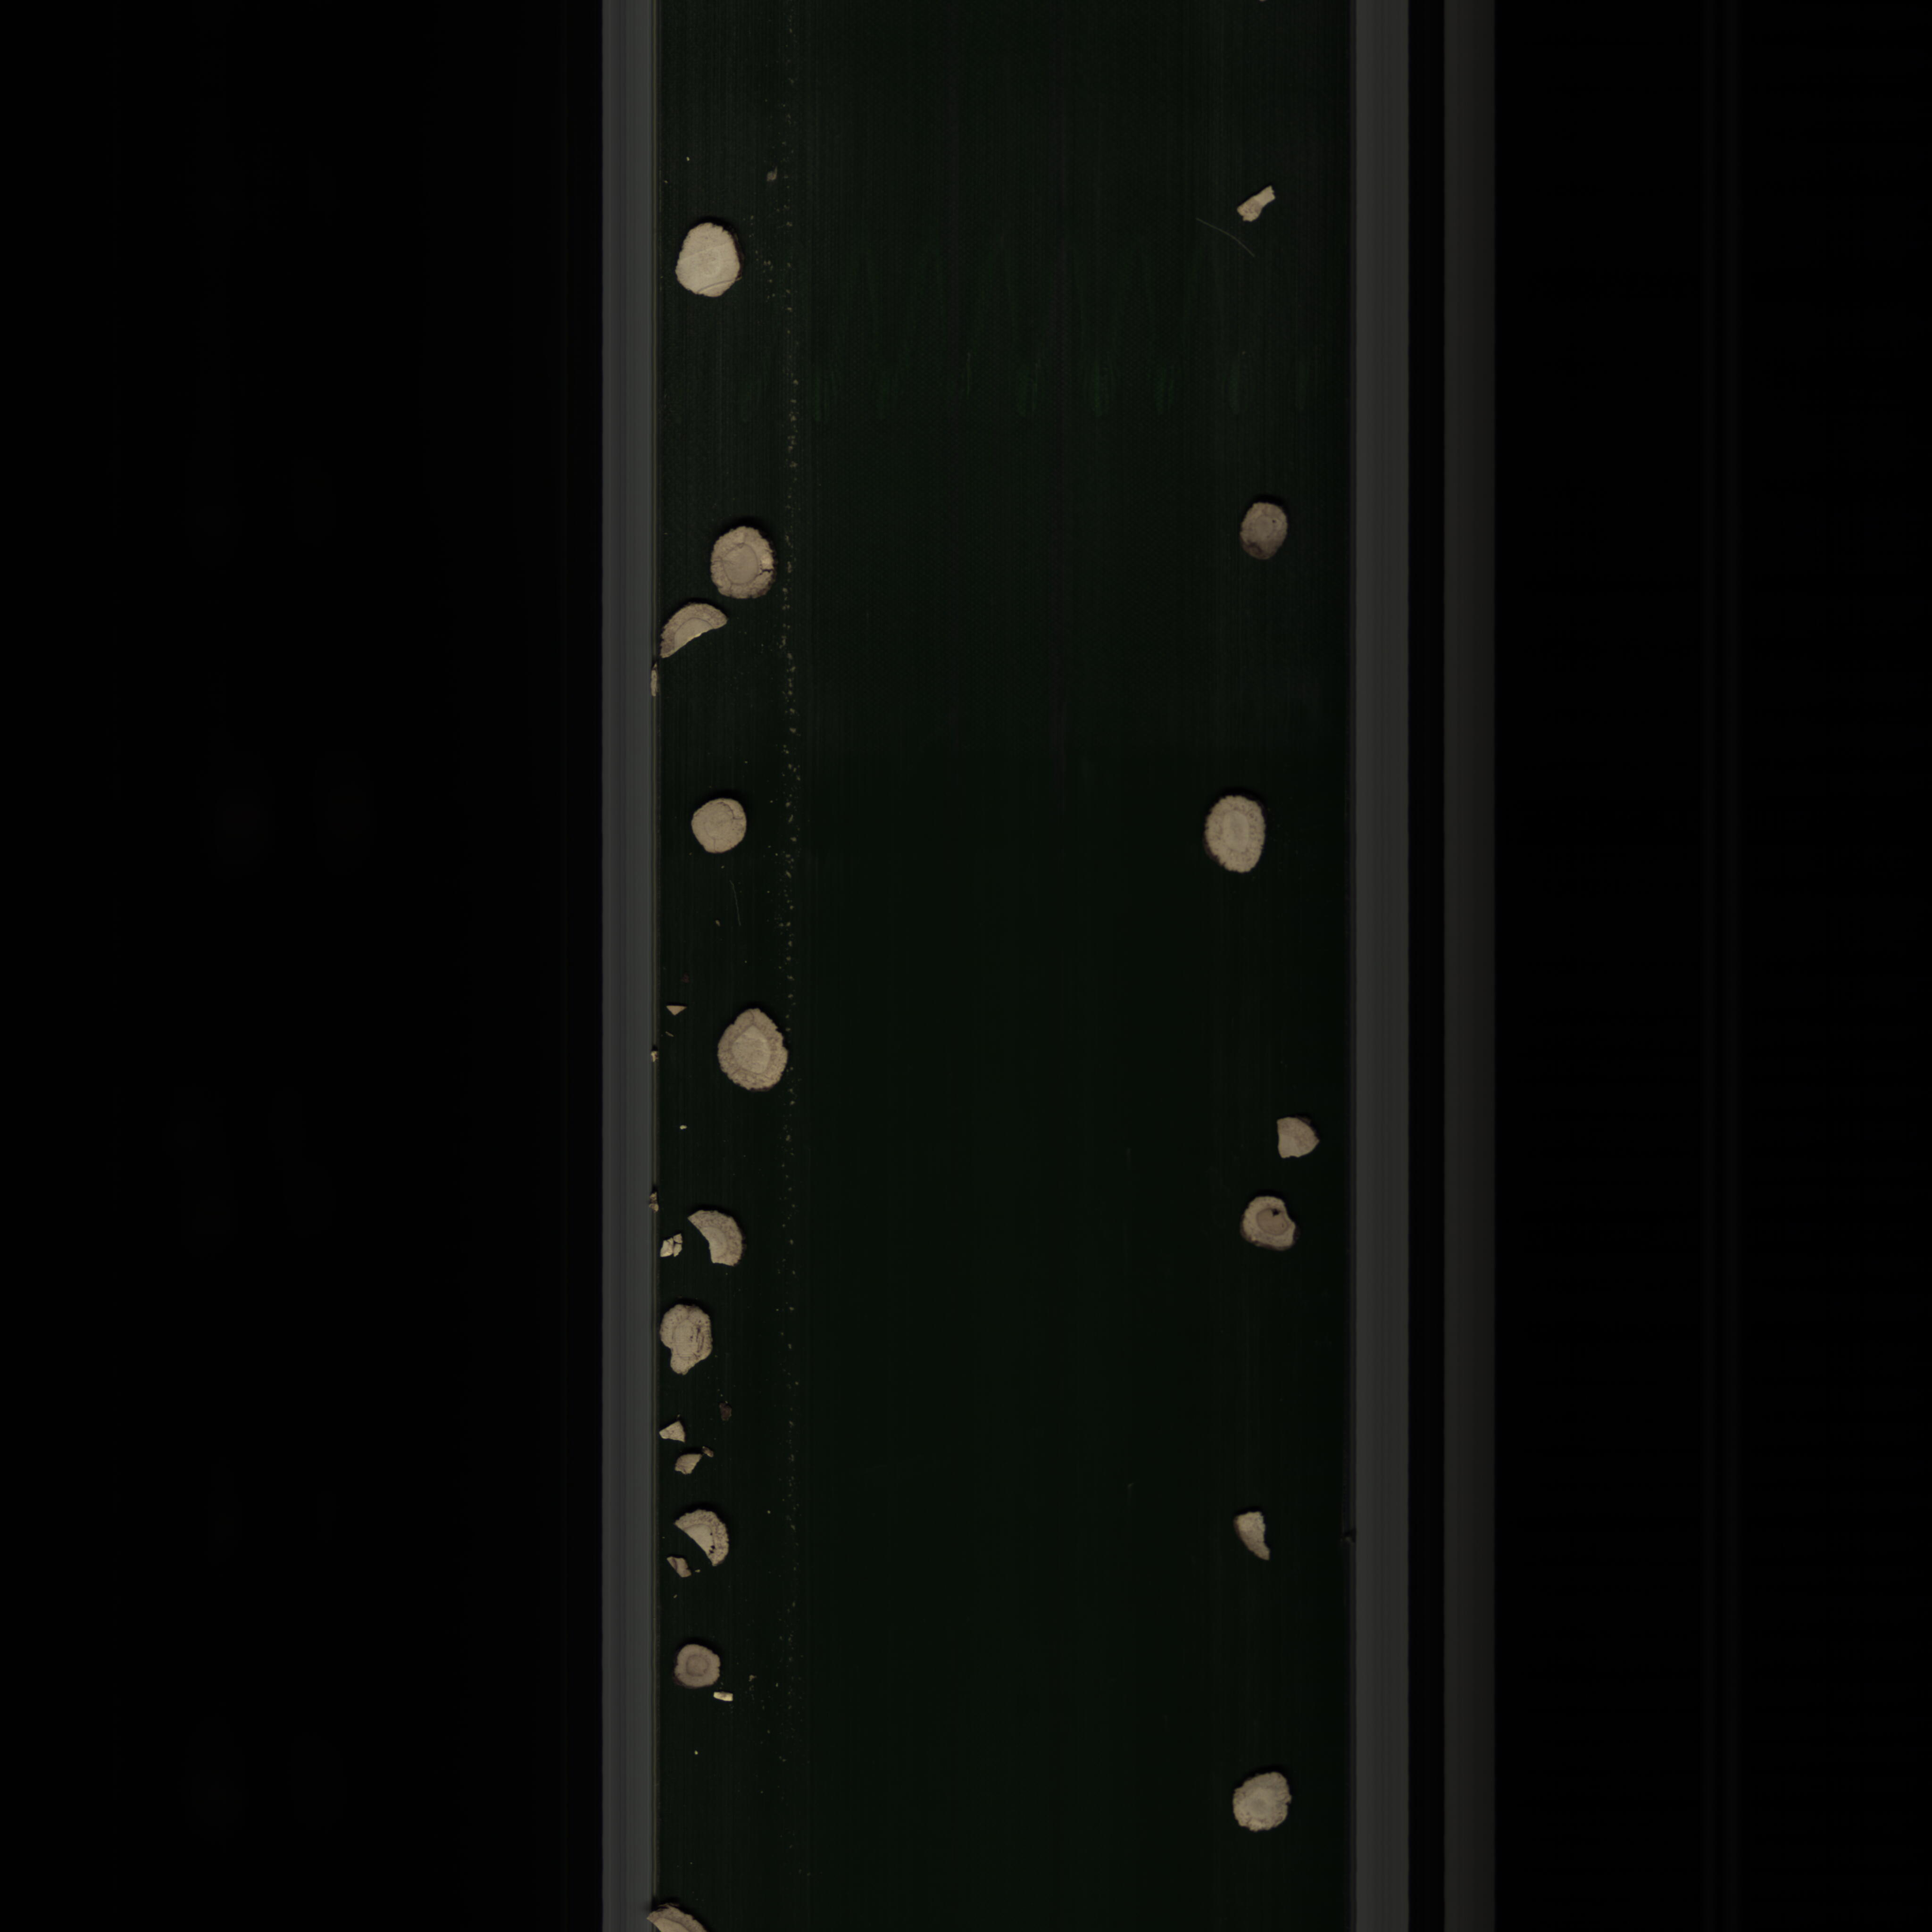debris: (683, 1208, 755, 1277), (658, 594, 724, 667), (1226, 1504, 1292, 1568), (672, 1509, 741, 1569), (1269, 1111, 1327, 1171), (1231, 177, 1283, 232), (713, 1686, 740, 1714)
moldy: (1224, 494, 1313, 575), (1240, 1184, 1306, 1254)
